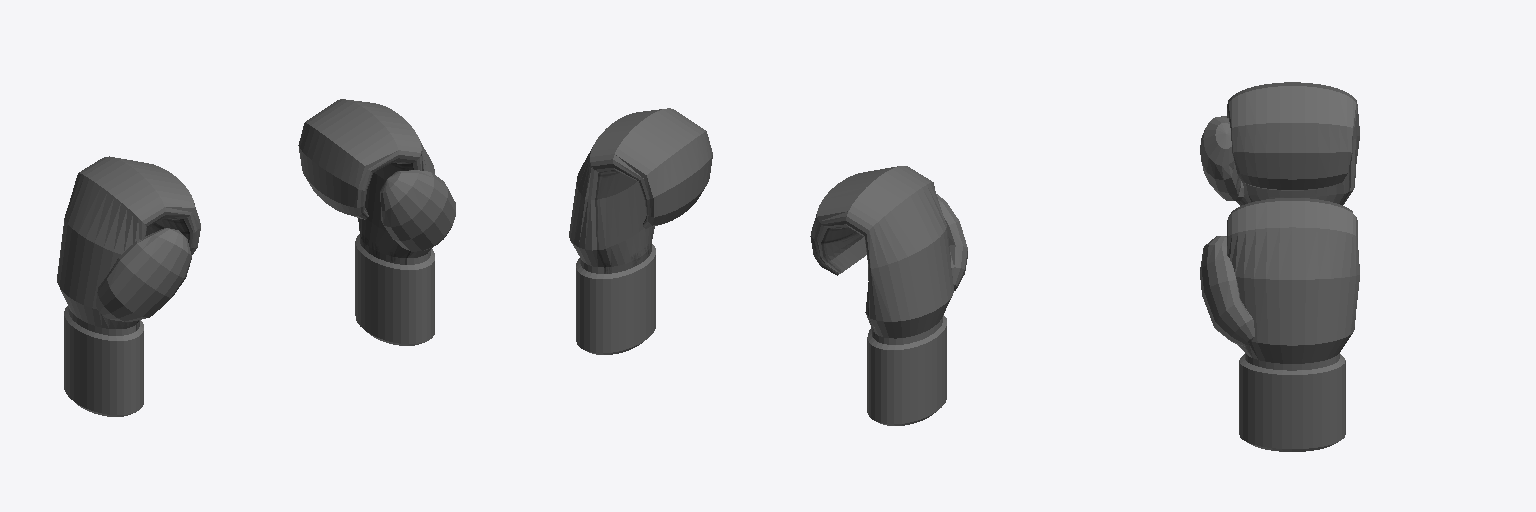
3 views of the same model, side by side, from view 1: azimuth 30°, elevation 25°; view 2: azimuth 150°, elevation 25°; view 3: azimuth 270°, elevation 25° (orthographic).
Visible parts, largest first — view 1: Cylinder, Cylinder.002_Cylinder.003; view 2: Cylinder, Cylinder.002_Cylinder.003; view 3: Cylinder.002_Cylinder.003, Cylinder.
Boxes of the visible parts, box(x1,y1,x2,y2) form: Cylinder: box(57, 156, 200, 416); Cylinder.002_Cylinder.003: box(298, 99, 455, 345); Cylinder: box(810, 166, 967, 425); Cylinder.002_Cylinder.003: box(569, 108, 712, 354); Cylinder.002_Cylinder.003: box(1200, 198, 1359, 451); Cylinder: box(1200, 82, 1359, 205).
Size of the model in its own units: 4.97 by 2.96 by 1.91.
Materials: 1 (1 with a texture image).